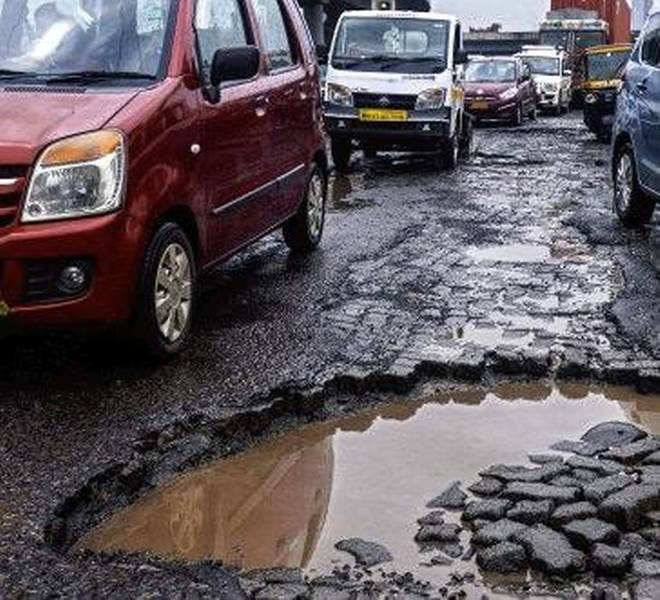pothole: (35, 350, 650, 569), (462, 227, 576, 277), (483, 146, 542, 173)
